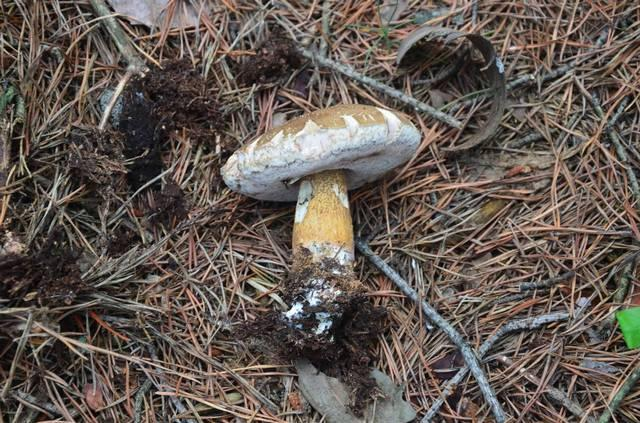Non-edible Mushroom: (219, 101, 422, 339)
